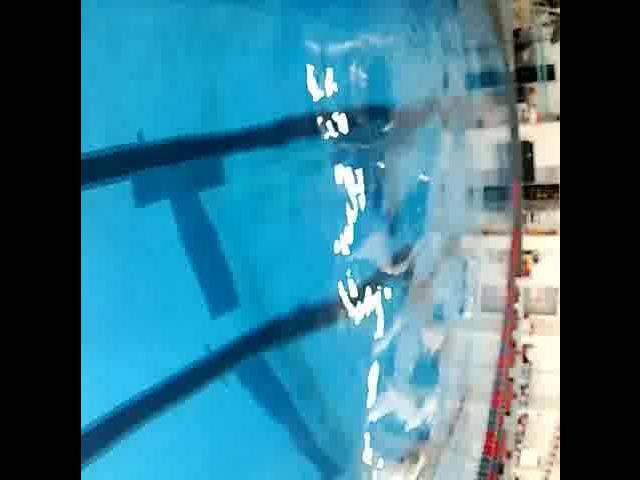Bottle: (452, 248, 482, 326)
